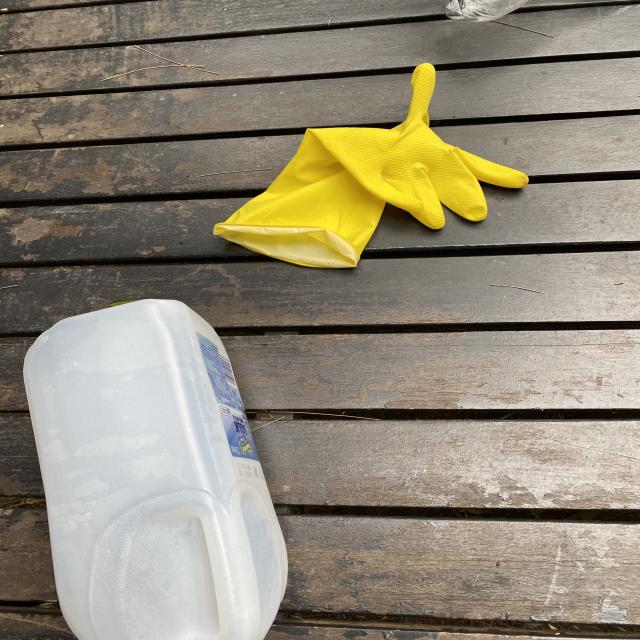bottle: (23, 299, 288, 640)
glove: (213, 63, 529, 268)
